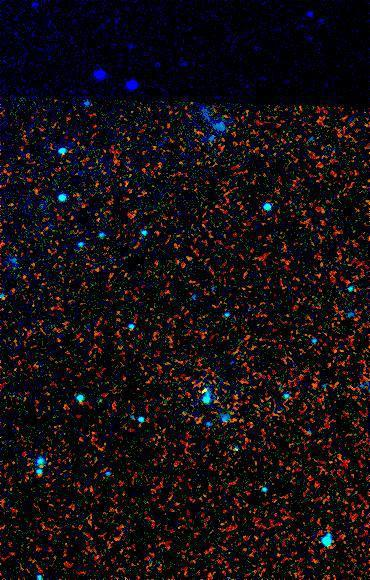star: (193, 374, 223, 404)
